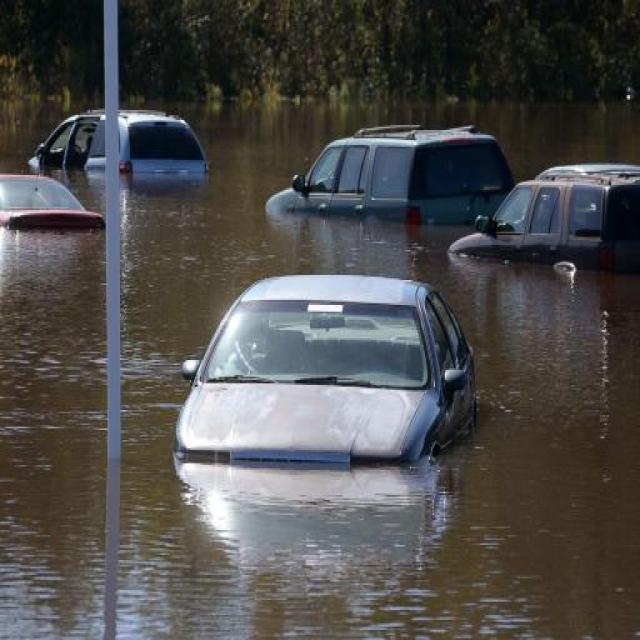water: (115, 189, 638, 637), (125, 95, 639, 183), (191, 110, 361, 215), (1, 92, 102, 134), (66, 173, 104, 213), (0, 135, 40, 170)
